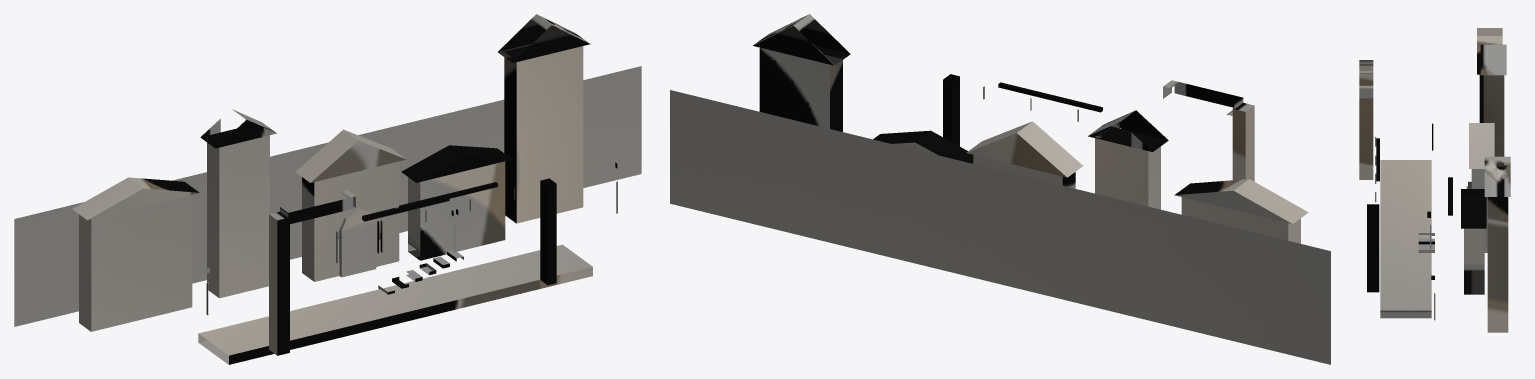
File: environment.obj
3 views of the same model, side by side, from view 1: azimuth 30°, elevation 25°; view 2: azimuth 150°, elevation 25°; view 3: azimuth 270°, elevation 25° (orthographic). The views are drawn at different scales.
Parts seen in each view (by area): view 1: RND_WalkBand_EnvironmentBakedAtlas; view 2: RND_WalkBand_EnvironmentBakedAtlas; view 3: RND_WalkBand_EnvironmentBakedAtlas.
Part boxes in pixels (x1=…): RND_WalkBand_EnvironmentBakedAtlas: x1=14, y1=14, x2=641, y2=364; RND_WalkBand_EnvironmentBakedAtlas: x1=670, y1=14, x2=1330, y2=364; RND_WalkBand_EnvironmentBakedAtlas: x1=1359, y1=28, x2=1510, y2=332.
Bounding box in the file's own units: 31 × 9.49 × 8.16.
